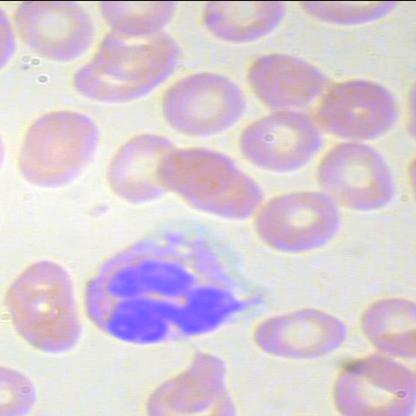RBC: (3, 252, 87, 358), (317, 133, 409, 217), (252, 305, 354, 368), (251, 192, 353, 254), (160, 70, 252, 138), (20, 104, 112, 172), (155, 134, 247, 202), (323, 76, 403, 142), (250, 46, 330, 112), (243, 106, 323, 172)
WBC: (80, 220, 270, 346)
